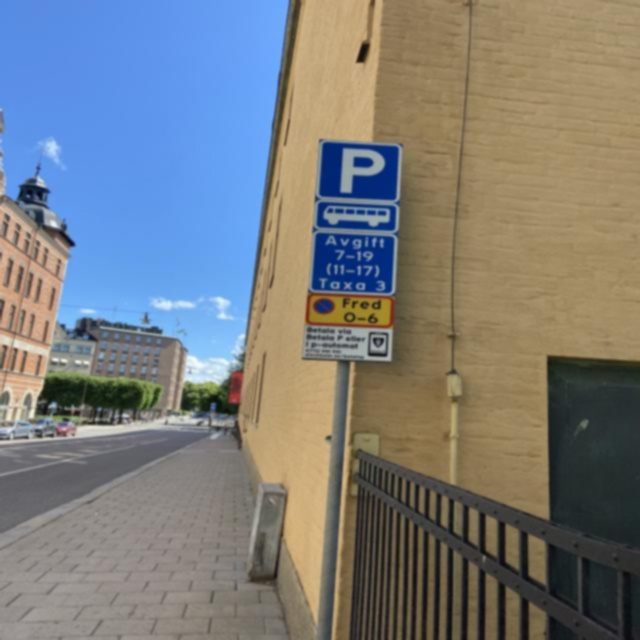P-skylt: (317, 136, 403, 202)
